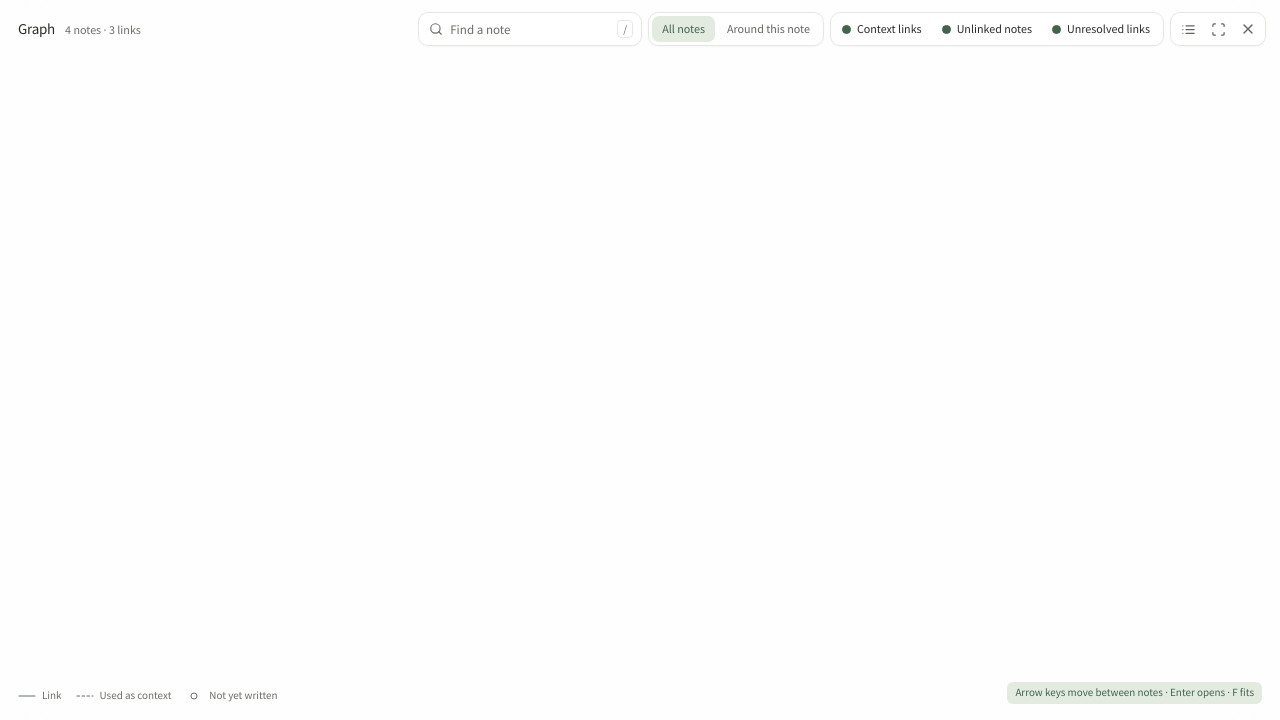
NoteGraph dialog › shows the neighbourhood of the active note with a depth stepper
The image size is (1280, 720).
Click the button "Around this note".
click(768, 29)  # box [717,16,820,42]
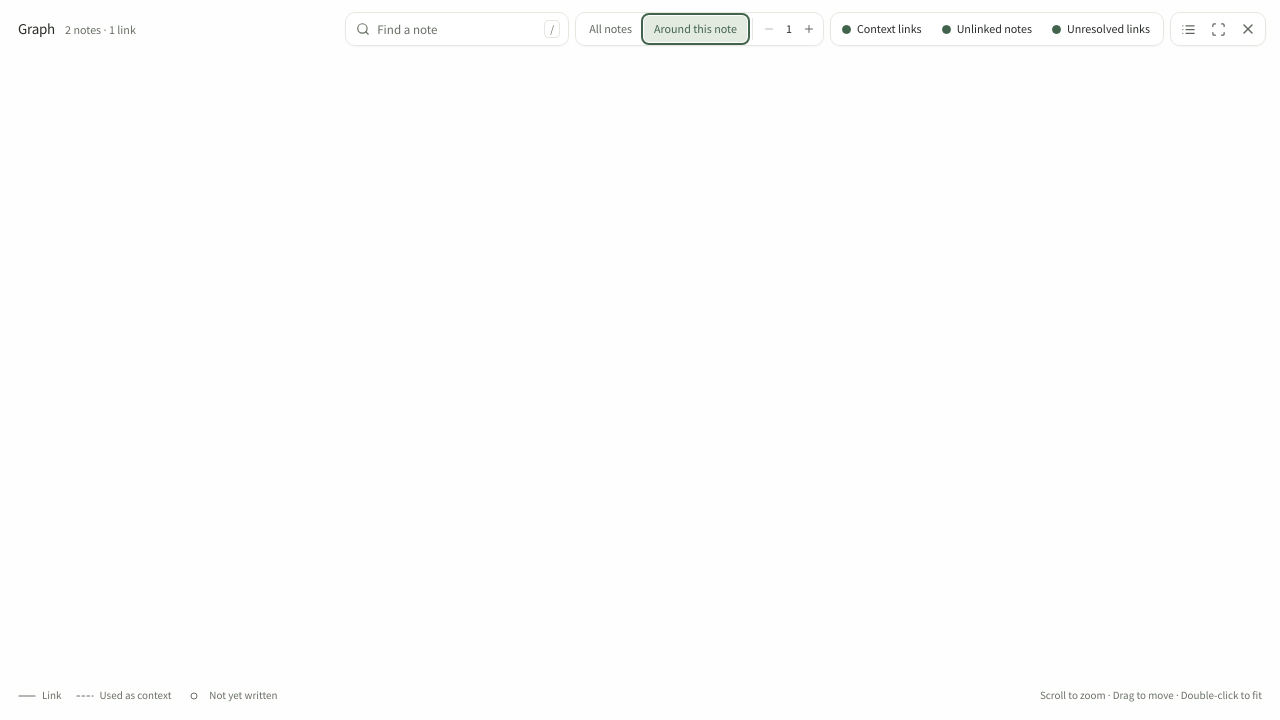
Expected: the text "2 notes · 1 link" is shown, [65,21,136,38]
Expected: the button named "Fewer steps" is disabled, [758,18,780,40]
Click the button named "More steps".
click(809, 29)  # box [798,18,820,40]
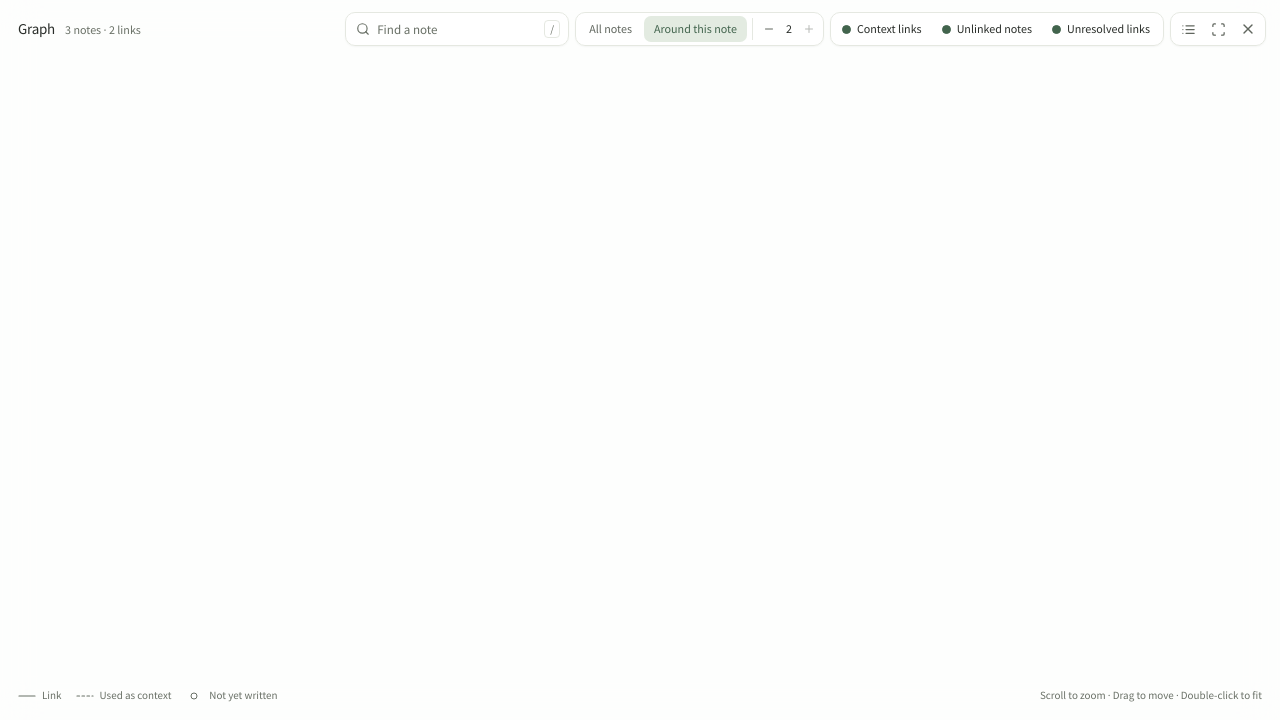
Expected: the text "3 notes · 2 links" is shown, [65,21,141,38]
Expected: the button named "More steps" is disabled, [798,18,820,40]
Click the button "All notes".
click(611, 29)  # box [579,16,642,42]
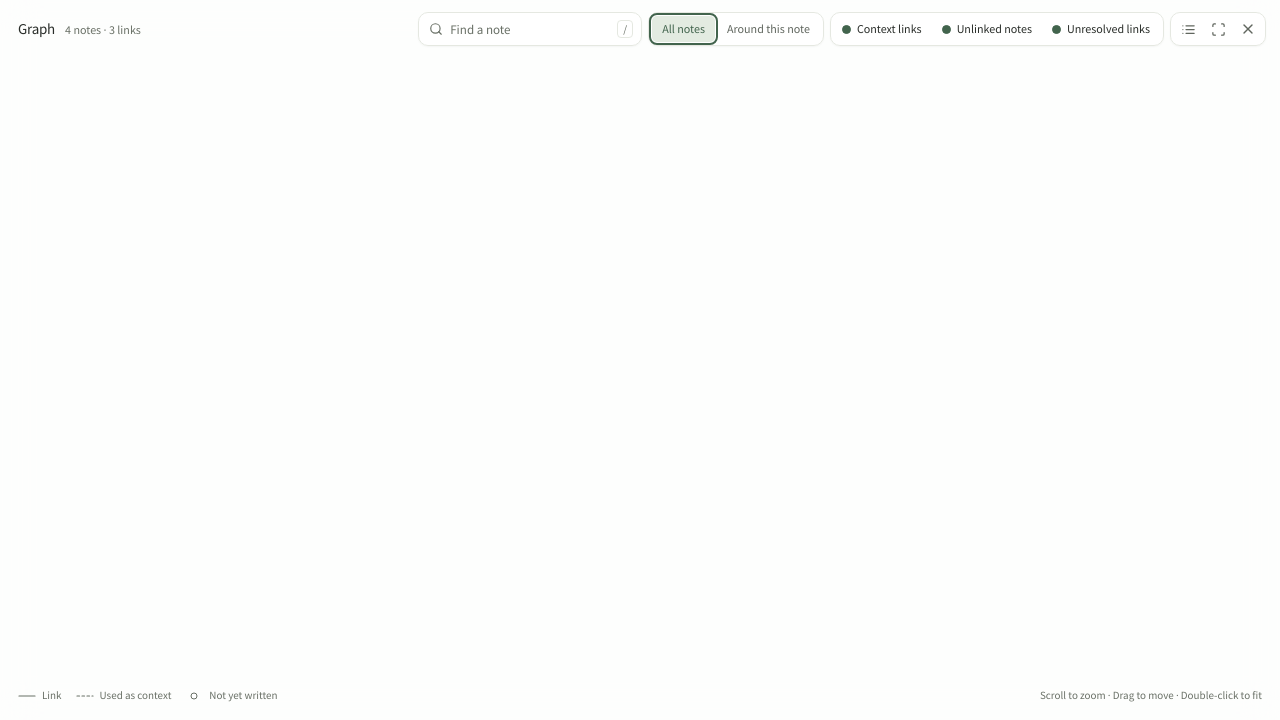
Expected: the text "4 notes · 3 links" is shown, [65,21,141,38]
